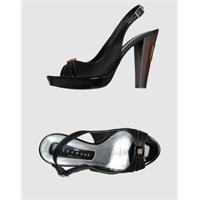shoe: (46, 4, 158, 89), (38, 128, 161, 176)
